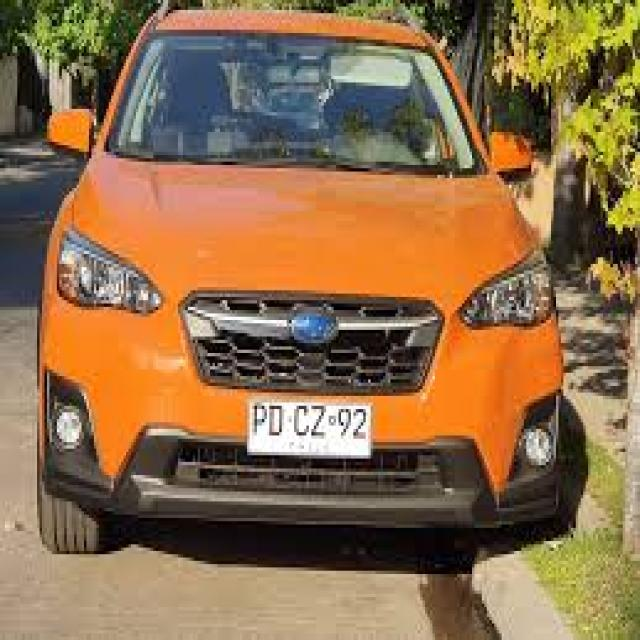patente: (245, 396, 373, 458)
